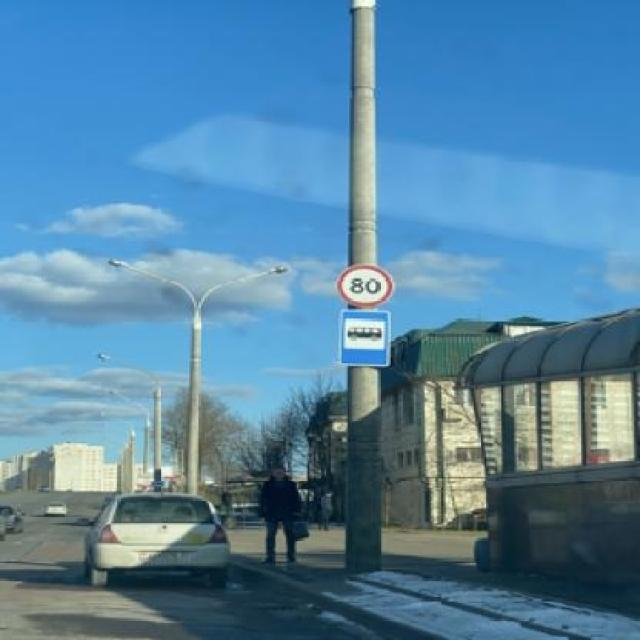forb_speed_over_80: (338, 266, 391, 306)
